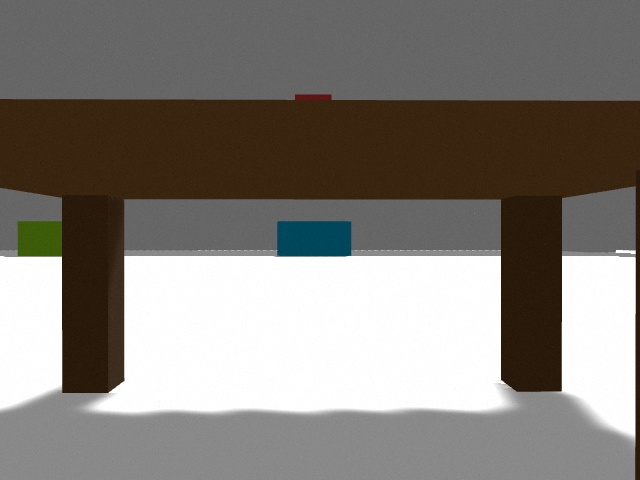blue_drop_zone: (277, 221, 351, 256)
green_drop_zone: (17, 221, 62, 256)
